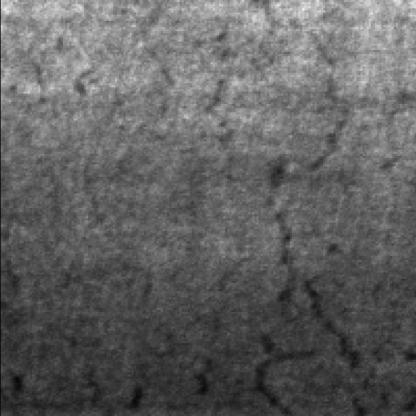crazing: (217, 17, 345, 414), (68, 0, 154, 402)
